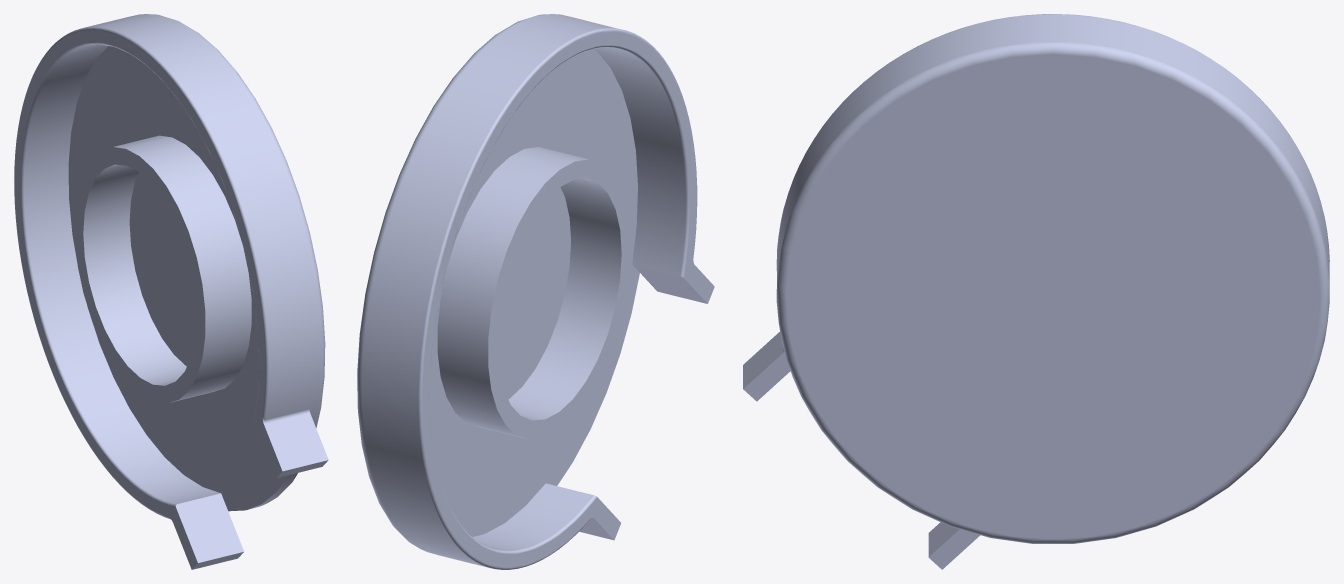
The model's file is hand_3.obj.
The picture shows the model from 3 angles, left to right: view 1: azimuth 30°, elevation 25°; view 2: azimuth 150°, elevation 25°; view 3: azimuth 270°, elevation 25°; orthographic projection. The views are drawn at different scales.
Visible parts, largest first — view 1: Body1; view 2: Body1; view 3: Body1.
Part boxes in pixels (box(x1,y1,x2,y2)): Body1: box(14, 14, 328, 569); Body1: box(357, 14, 714, 569); Body1: box(743, 14, 1329, 569).
Bounding box in the file's own units: 0.00818 × 0.0604 × 0.0604.
